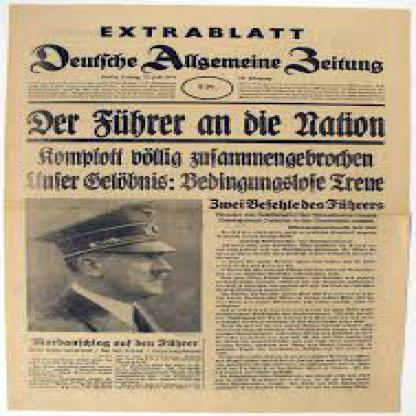paper: (0, 0, 408, 415)
